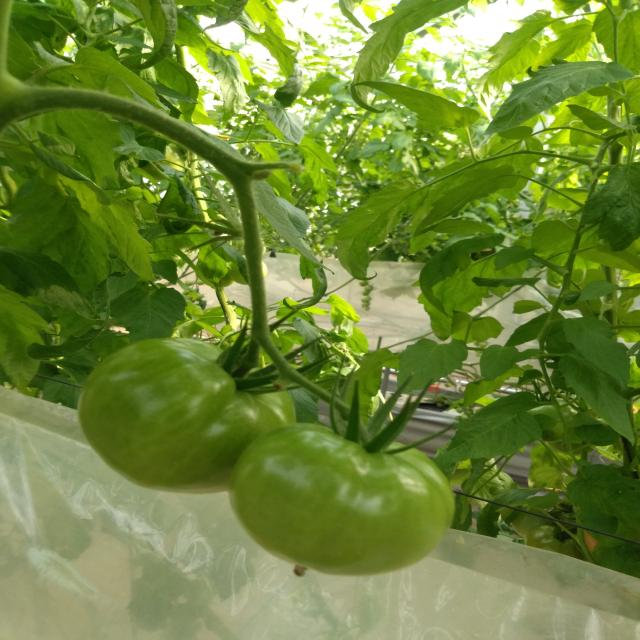yesil: (100, 301, 435, 577)
